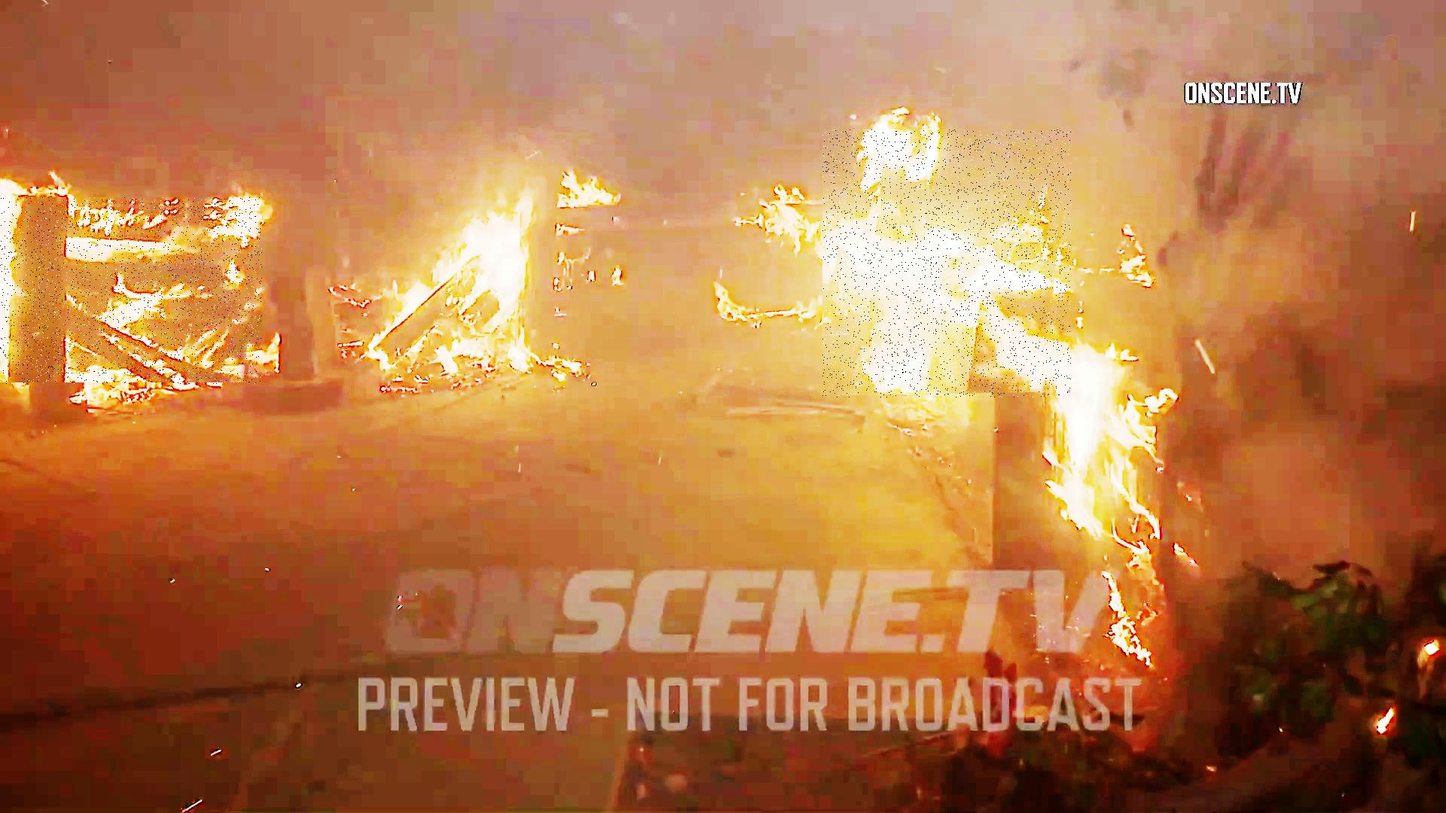fire: (823, 130, 1072, 398), (0, 198, 262, 384)
